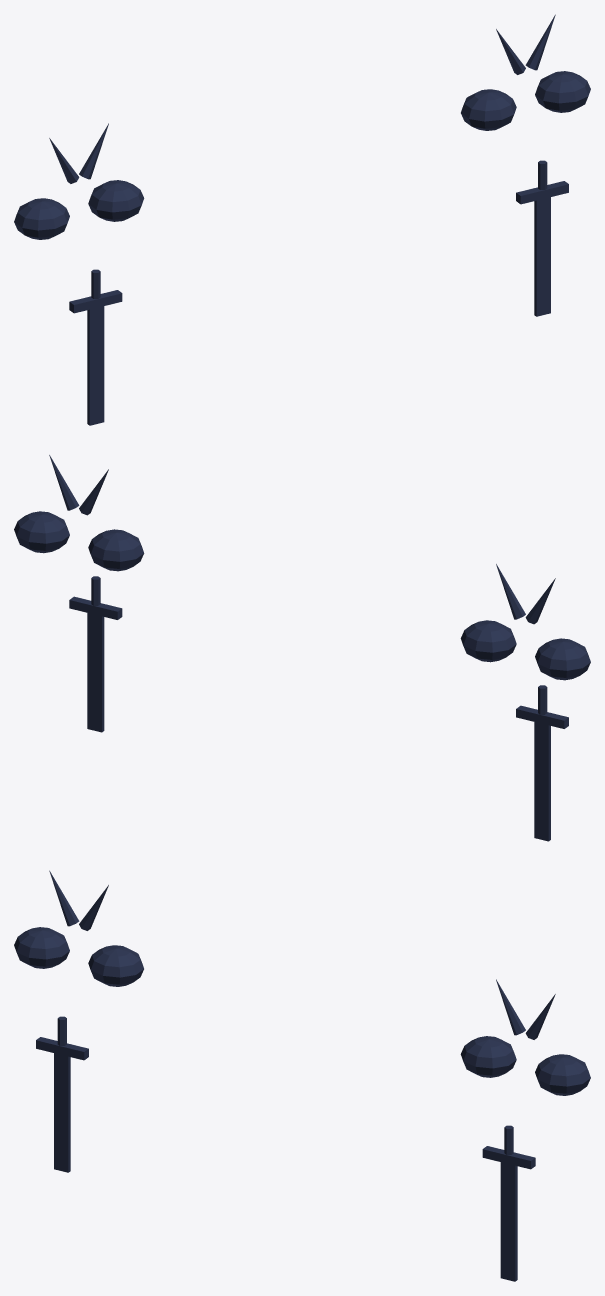
File: Colossi_ShadowEdge.fbx
The picture shows the model from 3 angles, top to bottom: view 1: azimuth 30°, elevation 25°; view 2: azimuth 150°, elevation 25°; view 3: azimuth 330°, elevation 25°; orthographic projection.
Visible parts, largest first — view 1: Colossus-1Pauldron-1.001; view 2: Colossus-1Pauldron-1.001; view 3: Colossus-1Pauldron-1.001.
Part boxes in pixels (x1=…): Colossus-1Pauldron-1.001: x1=14, y1=14, x2=590, y2=425; Colossus-1Pauldron-1.001: x1=14, y1=455, x2=590, y2=841; Colossus-1Pauldron-1.001: x1=14, y1=870, x2=590, y2=1281.
Size of the model in its own units: 9167 by 4320 by 905.
